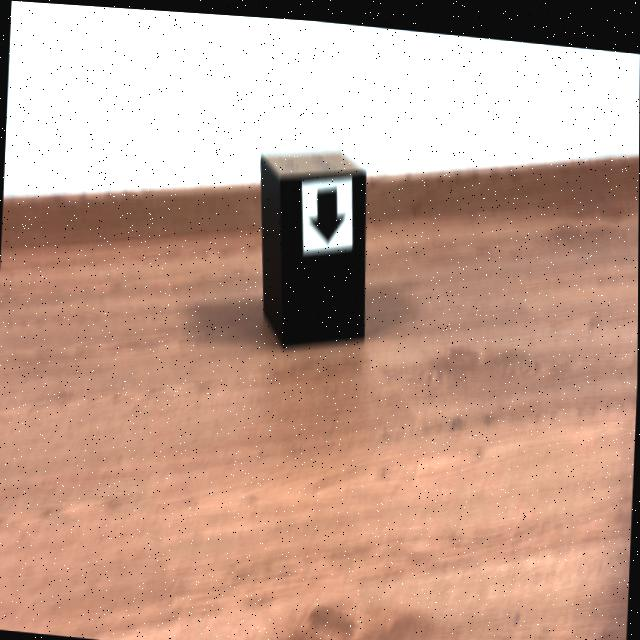DOWN: (307, 180, 345, 238)
